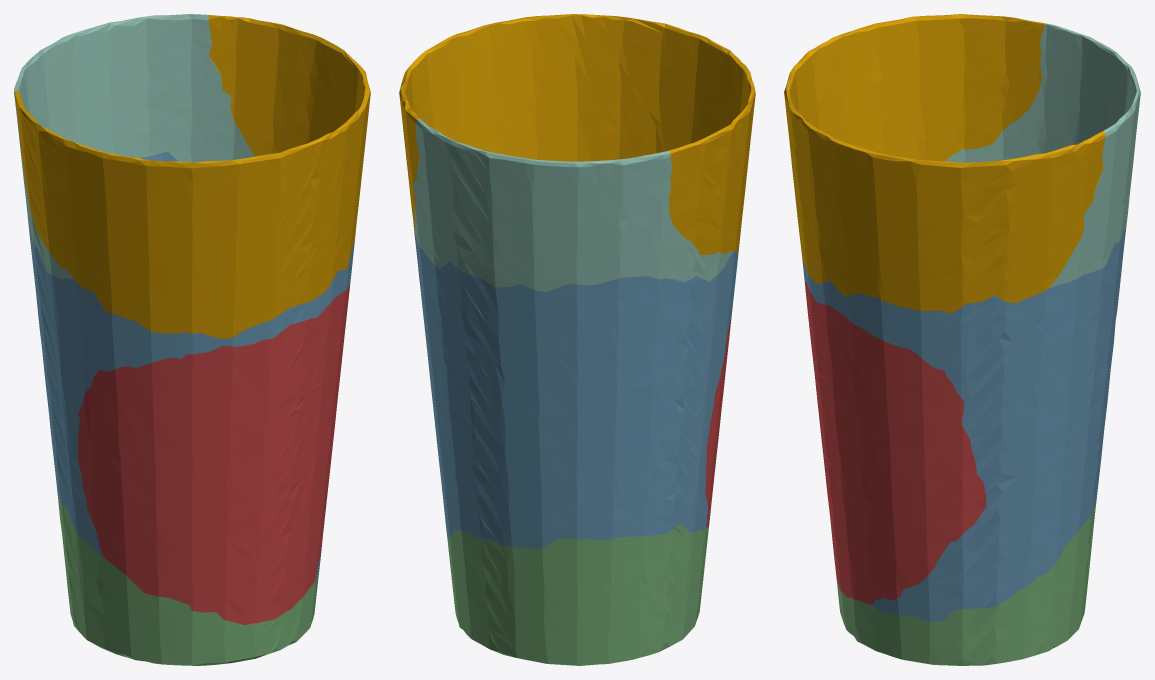
File: mode_6_6pcs.glb
3 views of the same model, side by side, from view 1: azimuth 30°, elevation 25°; view 2: azimuth 150°, elevation 25°; view 3: azimuth 270°, elevation 25° (orthographic).
Parts seen in each view (by area): view 1: piece_0.obj, piece_1.obj, piece_4.obj, piece_2.obj, piece_3.obj; view 2: piece_2.obj, piece_0.obj, piece_4.obj, piece_3.obj, piece_1.obj; view 3: piece_0.obj, piece_2.obj, piece_1.obj, piece_4.obj, piece_3.obj.
Part boxes in pixels (left/top/right/bottom): piece_0.obj: left=14, top=15, right=370, bottom=338; piece_1.obj: left=78, top=284, right=350, bottom=624; piece_4.obj: left=14, top=14, right=254, bottom=279; piece_2.obj: left=28, top=151, right=354, bottom=581; piece_3.obj: left=57, top=488, right=319, bottom=665; piece_2.obj: left=414, top=232, right=738, bottom=549; piece_0.obj: left=399, top=14, right=755, bottom=256; piece_4.obj: left=413, top=118, right=732, bottom=291; piece_3.obj: left=447, top=523, right=708, bottom=665; piece_1.obj: left=705, top=314, right=731, bottom=527; piece_0.obj: left=784, top=14, right=1105, bottom=313; piece_2.obj: left=802, top=228, right=1126, bottom=622; piece_1.obj: left=804, top=282, right=986, bottom=605; piece_4.obj: left=945, top=23, right=1140, bottom=288; piece_3.obj: left=836, top=500, right=1096, bottom=665.
Size of the model in its own units: 0.6116 by 1 by 0.6116.
